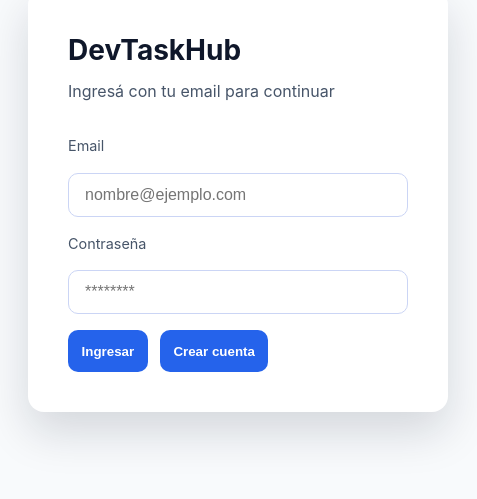
LoginPage › muestra mensaje de error si el login falla
Type "a@test.com" into the field labelled "Email".
click(238, 195); type("a@test.com")  # box [68, 173, 408, 217]
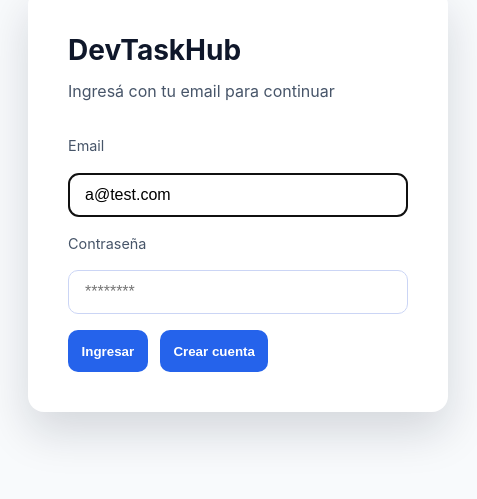
Type "secret123" into the password field labelled "Contraseña".
click(238, 292); type("secret123")  # box [68, 270, 408, 314]
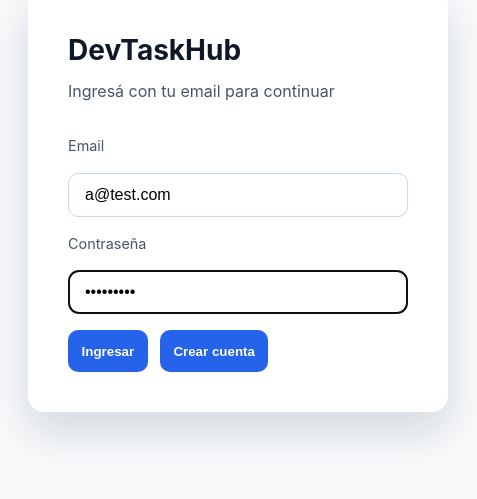
Click the button "Ingresar".
click(108, 351)  # box [68, 330, 148, 372]
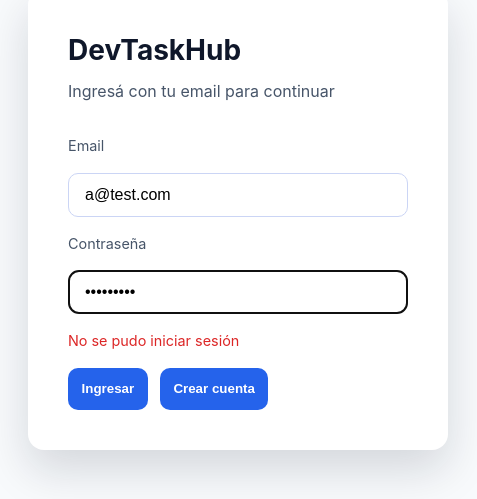
Expected: the text "No se pudo iniciar sesión" is shown, [68, 332, 239, 349]
